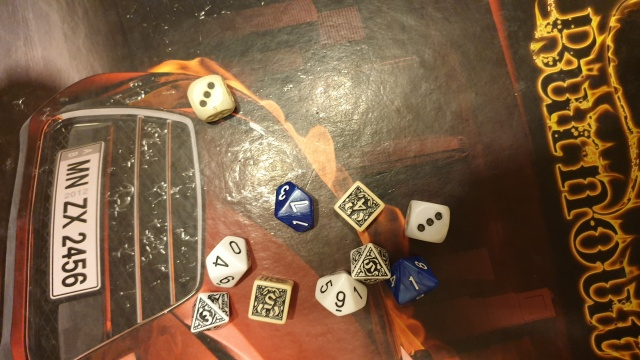d10-1: (388, 257, 434, 302)
d10-4: (197, 233, 253, 288)
d10-7: (271, 179, 316, 238)
d10-9: (313, 268, 370, 322)
d6-3: (182, 73, 238, 122), (405, 198, 449, 244)
d6p-4: (331, 179, 386, 232)
d6p-5: (247, 274, 293, 326)
d8p-3: (187, 292, 238, 333)
d8p-5: (345, 240, 392, 284)
